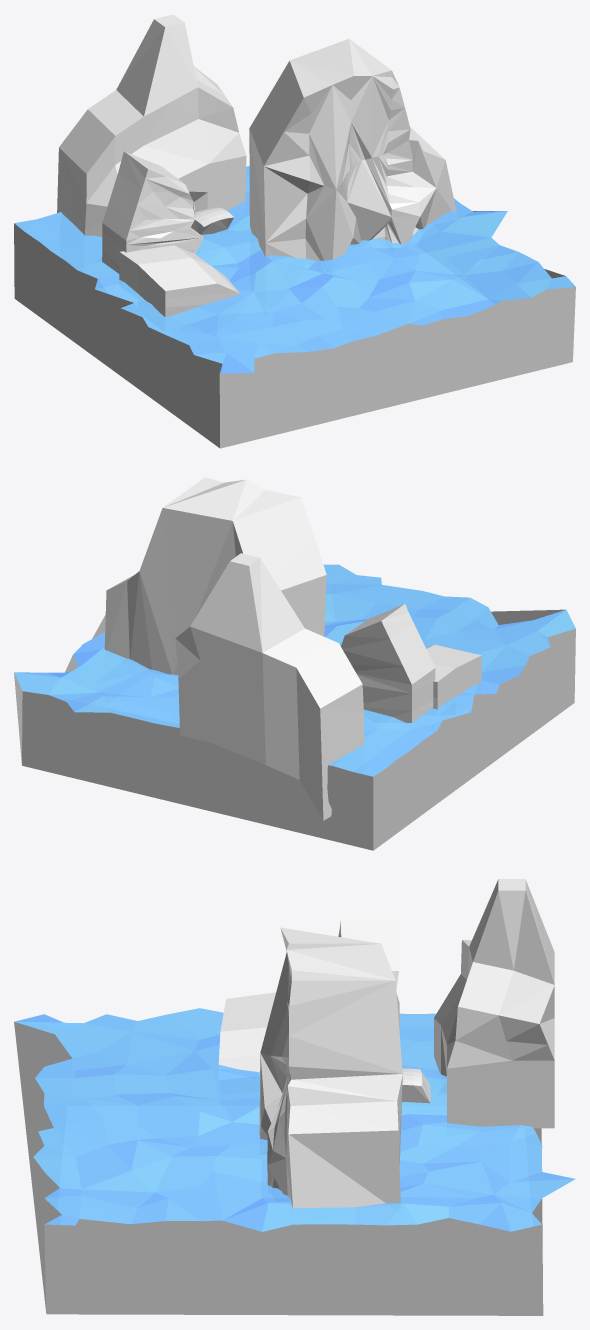
Rendered from iceberg.fbx.
3 renders of one model, top to bottom at view 1: azimuth 30°, elevation 25°; view 2: azimuth 150°, elevation 25°; view 3: azimuth 270°, elevation 25°, orthographic. The views are drawn at different scales.
Parts seen in each view (by area): view 1: Cube, Cube.003, Cube.004, Cube.001, Cube.002; view 2: Cube, Cube.004, Cube.003, Cube.001, Cube.002; view 3: Cube, Cube.003, Cube.004, Cube.002, Cube.001.
Boxes of the visible parts, x1,y1,x2,y2 form: Cube: (14,166,575,448); Cube.003: (249,39,456,260); Cube.004: (57,14,246,236); Cube.001: (102,151,203,273); Cube.002: (119,245,240,317); Cube: (14,564,575,850); Cube.004: (175,553,364,820); Cube.003: (104,477,326,674); Cube.001: (341,604,435,722); Cube.002: (426,644,481,709); Cube: (14,1008,575,1315); Cube.003: (259,927,402,1208); Cube.004: (402,879,554,1128); Cube.002: (218,992,275,1072); Cube.001: (338,920,399,988).
Bounding box in the file's own units: 1265 × 786 × 1313.
